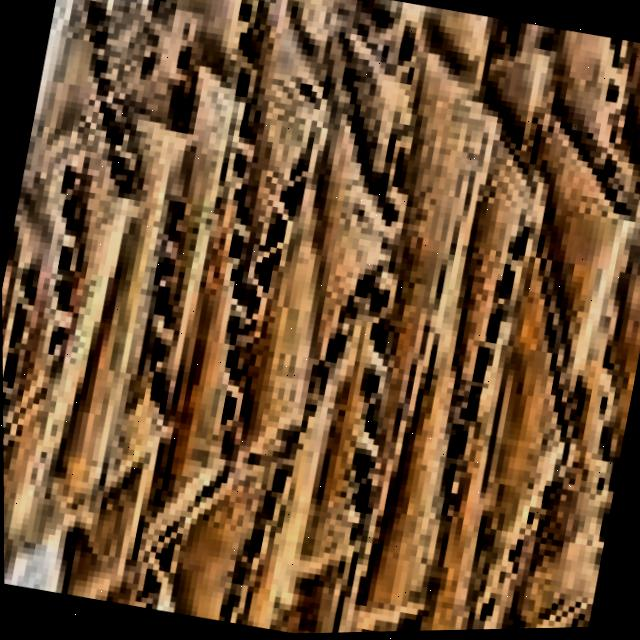paper: (2, 0, 640, 635)
